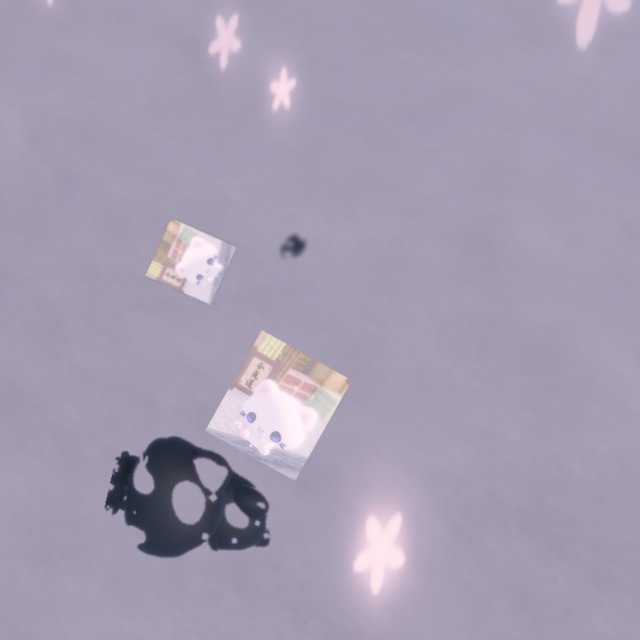urso_branco: (205, 330, 352, 481), (145, 218, 237, 305)
urso_preto: (93, 419, 301, 595), (271, 227, 315, 268)
